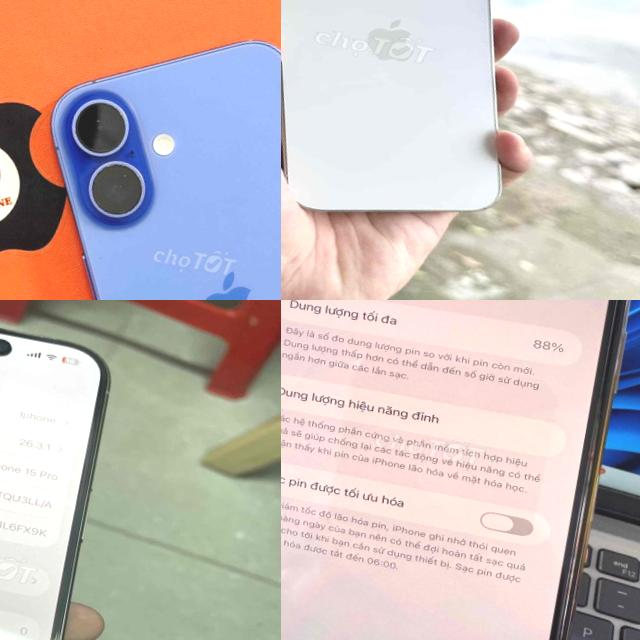scratch: (0, 322, 71, 346)
